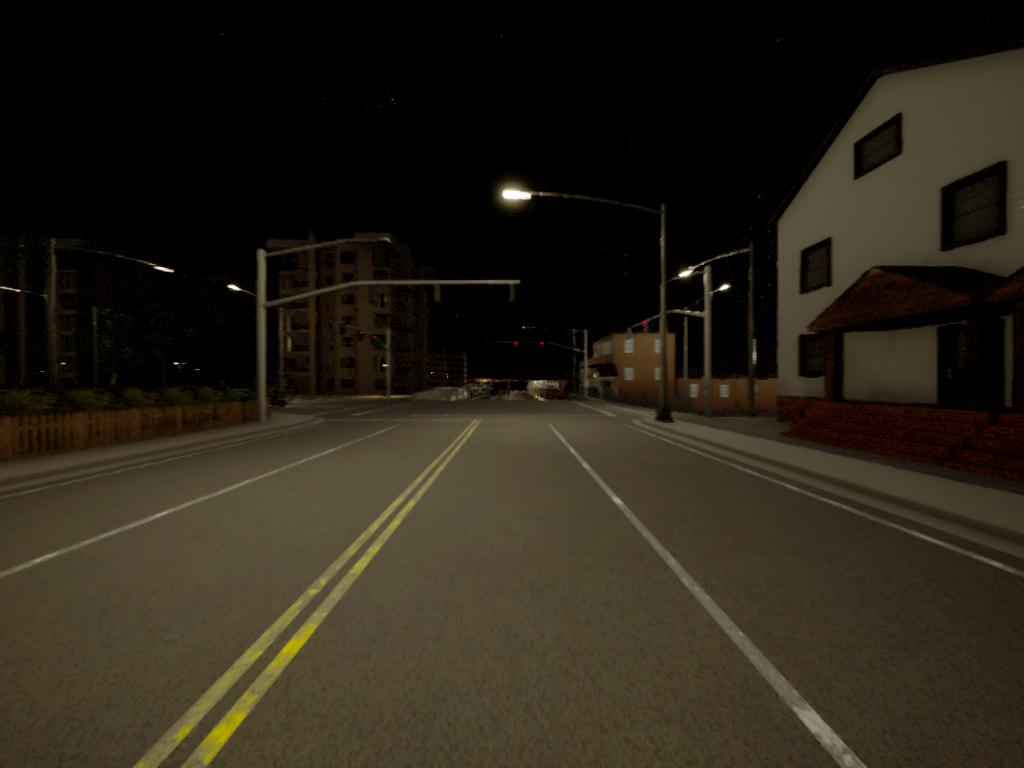traffic_light: (641, 321, 650, 337), (372, 335, 379, 347), (340, 324, 347, 336), (513, 340, 520, 350), (358, 331, 364, 342), (540, 341, 546, 350)
